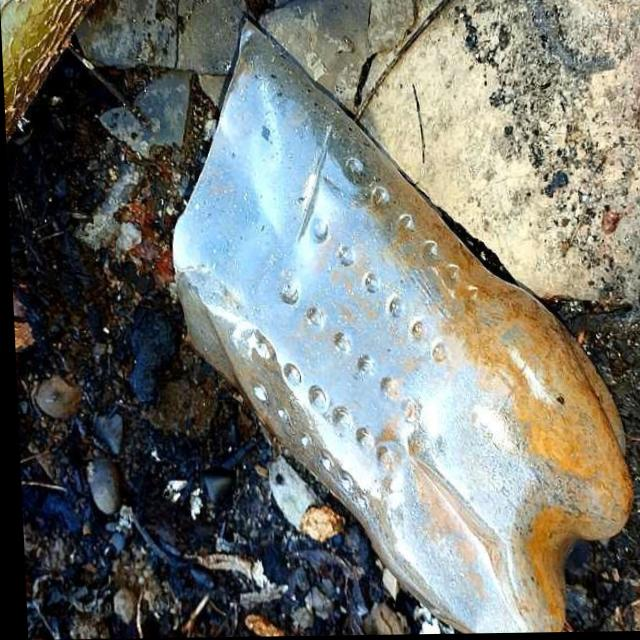Non-biodegradable: (137, 4, 640, 639)
